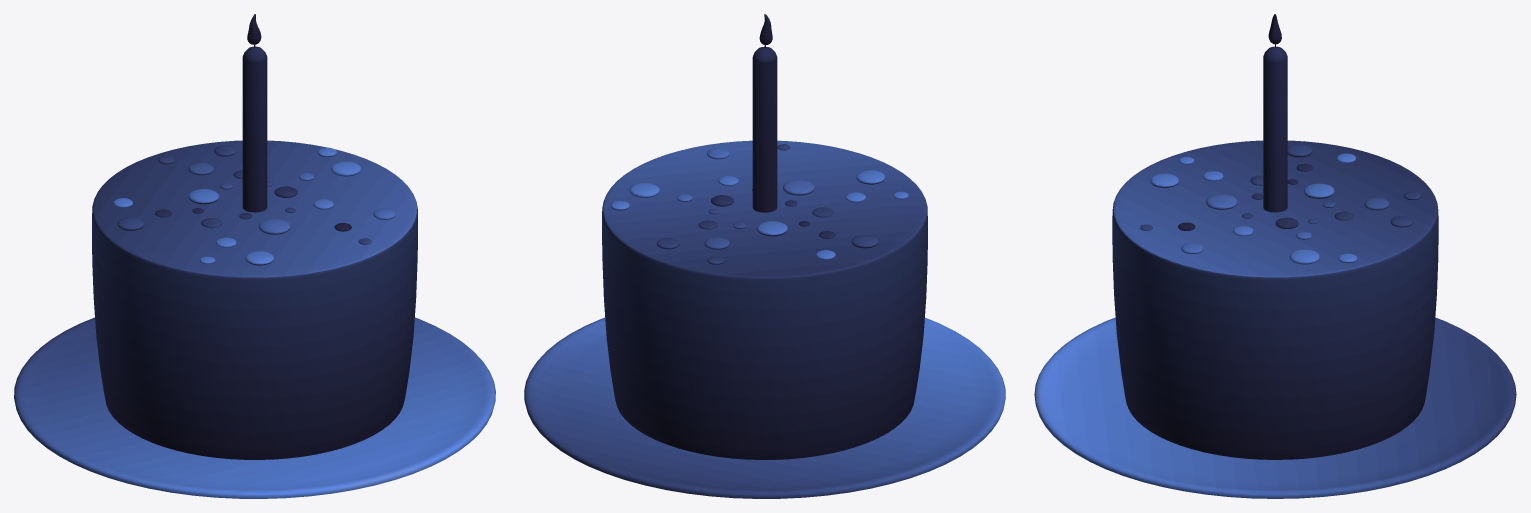
File: cake.fbx
The picture shows the model from 3 angles, left to right: view 1: azimuth 30°, elevation 25°; view 2: azimuth 150°, elevation 25°; view 3: azimuth 270°, elevation 25°; orthographic projection.
Visible parts, largest first — view 1: Cake; view 2: Cake; view 3: Cake.
Boxes of the visible parts, x1,y1,x2,y2 form: Cake: (14, 14, 495, 498); Cake: (524, 14, 1005, 498); Cake: (1034, 14, 1516, 498).
Bounding box in the file's own units: 280 × 250 × 280.
